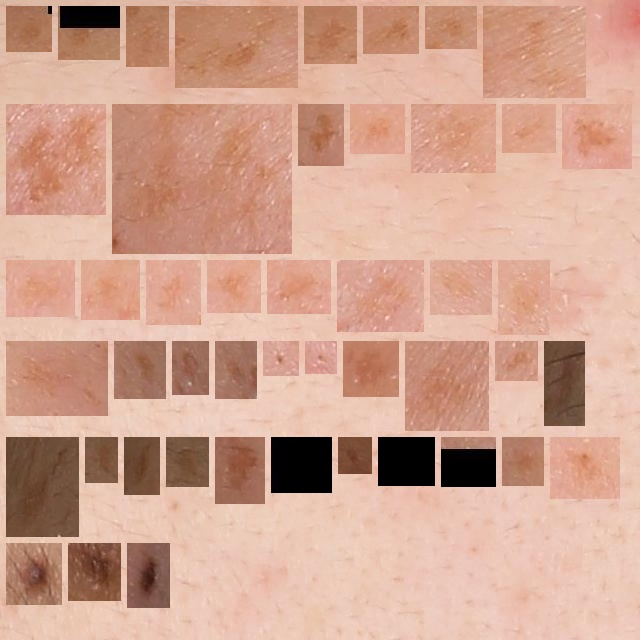melasma: (120, 112, 284, 246), (14, 112, 98, 207), (183, 14, 290, 80), (491, 14, 578, 90), (14, 349, 100, 408), (413, 349, 481, 423), (14, 445, 71, 529), (345, 268, 416, 324), (419, 112, 488, 165), (570, 112, 624, 161), (558, 445, 612, 491), (14, 268, 67, 309), (506, 268, 542, 327), (154, 268, 193, 317), (89, 268, 132, 312), (275, 268, 323, 306), (279, 445, 324, 485), (438, 268, 484, 307), (66, 14, 112, 52), (223, 445, 257, 496), (552, 349, 577, 418), (351, 349, 391, 389), (312, 14, 349, 56), (122, 349, 158, 391), (215, 268, 253, 305), (306, 112, 336, 158), (386, 445, 427, 478), (358, 112, 397, 146), (449, 445, 488, 479), (371, 14, 411, 46), (510, 112, 548, 145), (134, 14, 161, 59), (223, 349, 249, 391), (433, 14, 469, 41), (174, 445, 201, 479), (14, 14, 44, 44), (510, 445, 536, 478), (132, 445, 152, 487), (180, 349, 201, 387), (503, 349, 530, 373), (93, 445, 110, 475), (271, 349, 291, 368), (346, 445, 364, 466), (313, 349, 329, 366)
nevus: (14, 551, 54, 597), (76, 551, 113, 593), (135, 551, 162, 600)
